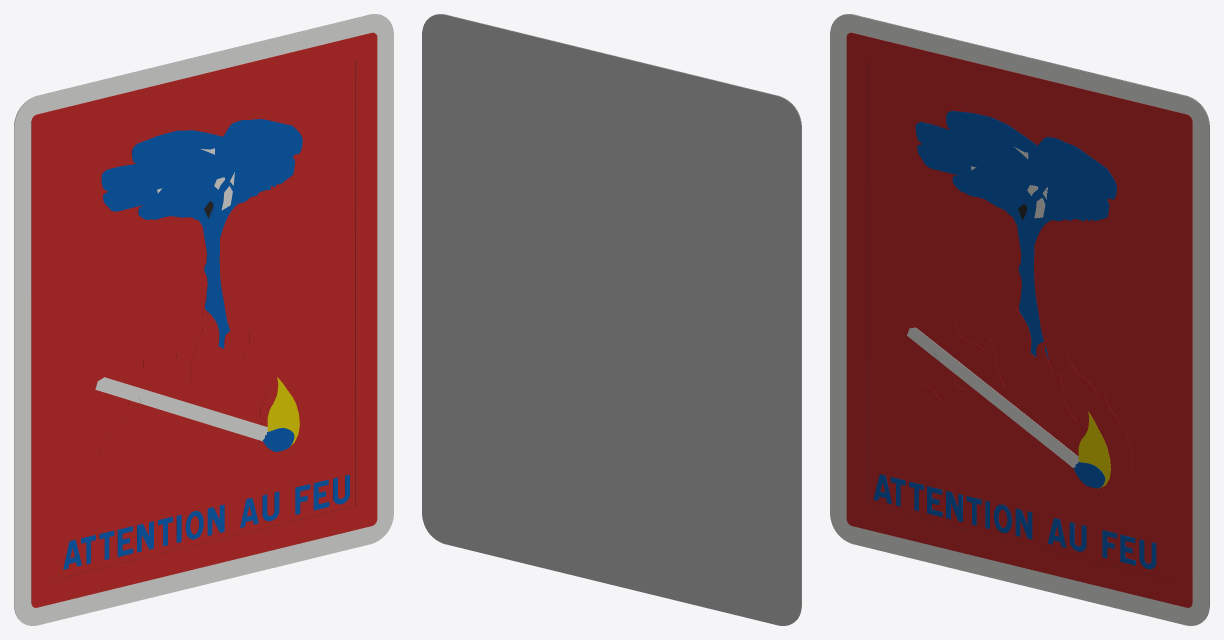
3 views of the same model, side by side, from view 1: azimuth 30°, elevation 25°; view 2: azimuth 150°, elevation 25°; view 3: azimuth 330°, elevation 25° (orthographic).
Visible parts, largest first — view 1: C3_p01, C3_p00, C3_p04, C3_p12, C3_p03, C3_p13, C3_p15, C3_p14, C3_dos, C3_p16, C3_p02; view 2: C3_dos, C3_p00; view 3: C3_p01, C3_p00, C3_p04, C3_p12, C3_p03, C3_p13, C3_p14, C3_p15, C3_dos, C3_p16, C3_p02.
Boxes of the visible parts, x1,y1,x2,y2 form: C3_p01: (31, 32, 377, 607); C3_p00: (14, 14, 393, 625); C3_p04: (101, 119, 302, 348); C3_p12: (99, 308, 264, 460); C3_p03: (249, 322, 317, 457); C3_p13: (95, 381, 266, 441); C3_p15: (267, 377, 299, 445); C3_p14: (98, 377, 267, 433); C3_dos: (14, 14, 381, 619); C3_p16: (262, 428, 294, 451); C3_p02: (54, 61, 355, 579); C3_dos: (422, 14, 801, 625); C3_p00: (434, 14, 801, 619); C3_p01: (846, 32, 1192, 607); C3_p00: (830, 14, 1209, 625); C3_p04: (915, 111, 1116, 359); C3_p12: (911, 305, 1076, 447); C3_p03: (1064, 346, 1132, 497); C3_p13: (907, 328, 1077, 467); C3_p14: (909, 327, 1078, 462); C3_p15: (1078, 411, 1110, 488); C3_dos: (842, 14, 1209, 619); C3_p16: (1073, 462, 1105, 488); C3_p02: (868, 61, 1169, 579).
Bounding box in the file's own units: 0.6 × 0.8 × 0.0143.
